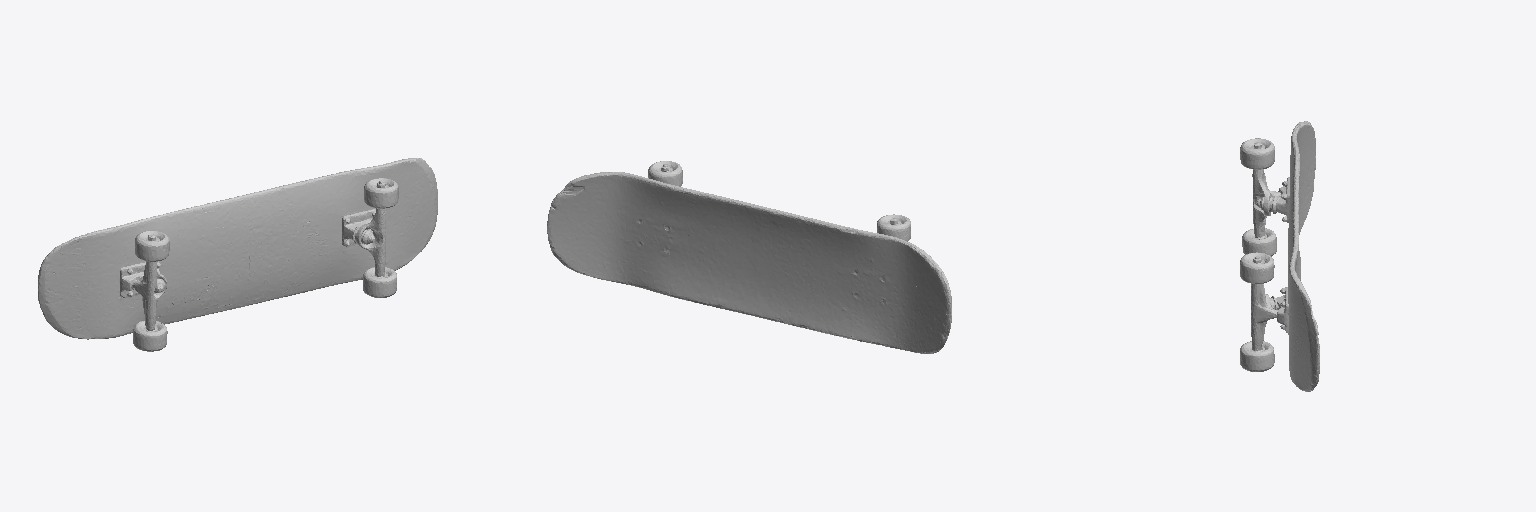
The model's file is skate-low.obj.
3 renders of one model, left to right at view 1: azimuth 30°, elevation 25°; view 2: azimuth 150°, elevation 25°; view 3: azimuth 270°, elevation 25°, orthographic.
Parts seen in each view (by area): view 1: low_0; view 2: low_0; view 3: low_0.
Boxes of the visible parts, <box> form: low_0: <box>38,158,437,351</box>; low_0: <box>547,161,951,353</box>; low_0: <box>1240,121,1319,391</box>.
Size of the model in its own units: 0.0772 by 0.0208 by 0.0134.